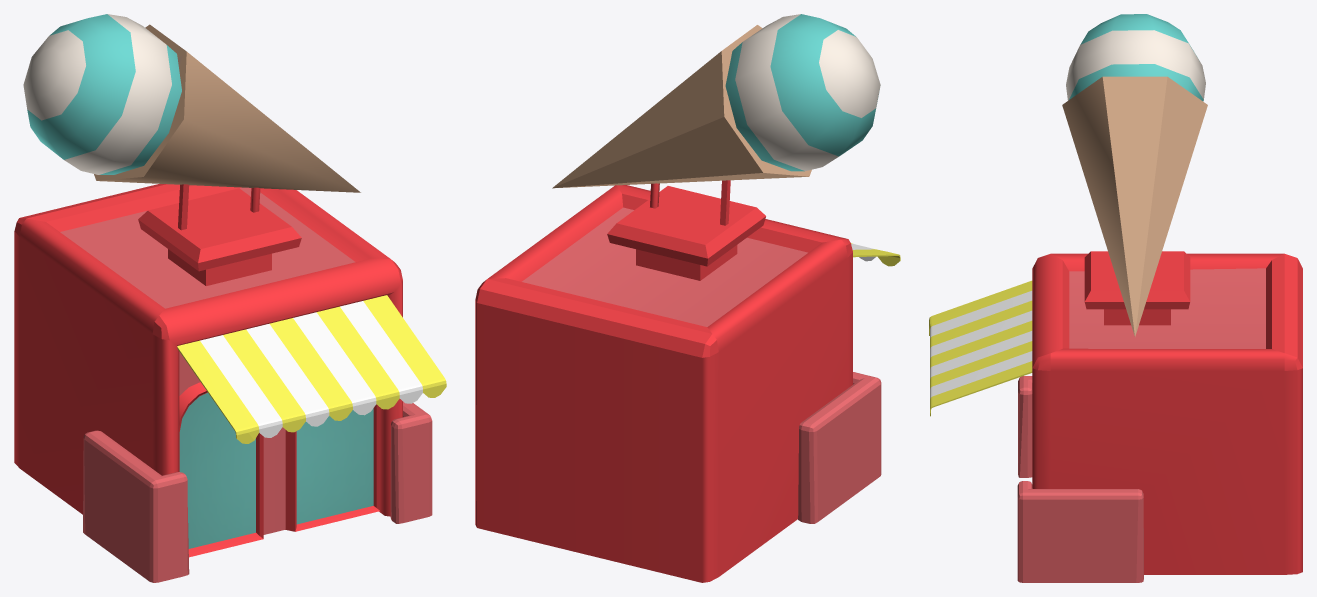
The model's file is SM_Ice_Cream2.fbx.
3 renders of one model, left to right at view 1: azimuth 30°, elevation 25°; view 2: azimuth 150°, elevation 25°; view 3: azimuth 270°, elevation 25°, orthographic. The views are drawn at different scales.
Visible parts, largest first — view 1: SM_Ice_Cream2; view 2: SM_Ice_Cream2; view 3: SM_Ice_Cream2.
Boxes of the visible parts, left/top/right/bottom form: SM_Ice_Cream2: left=14, top=14, right=446, bottom=582; SM_Ice_Cream2: left=475, top=14, right=900, bottom=582; SM_Ice_Cream2: left=929, top=14, right=1302, bottom=582.
Size of the model in its own units: 453 by 660 by 500.
